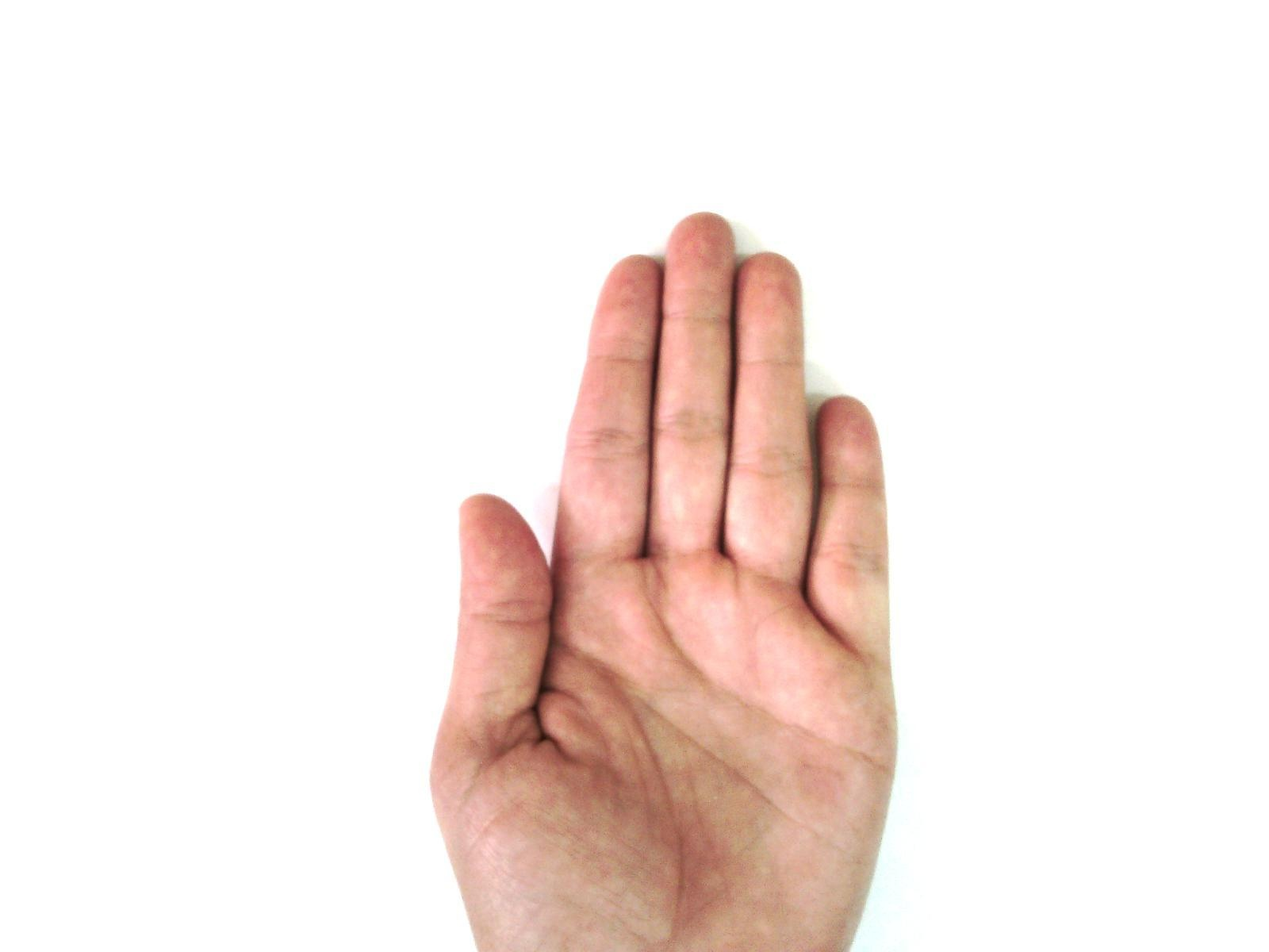open_palm: (427, 211, 903, 951)
